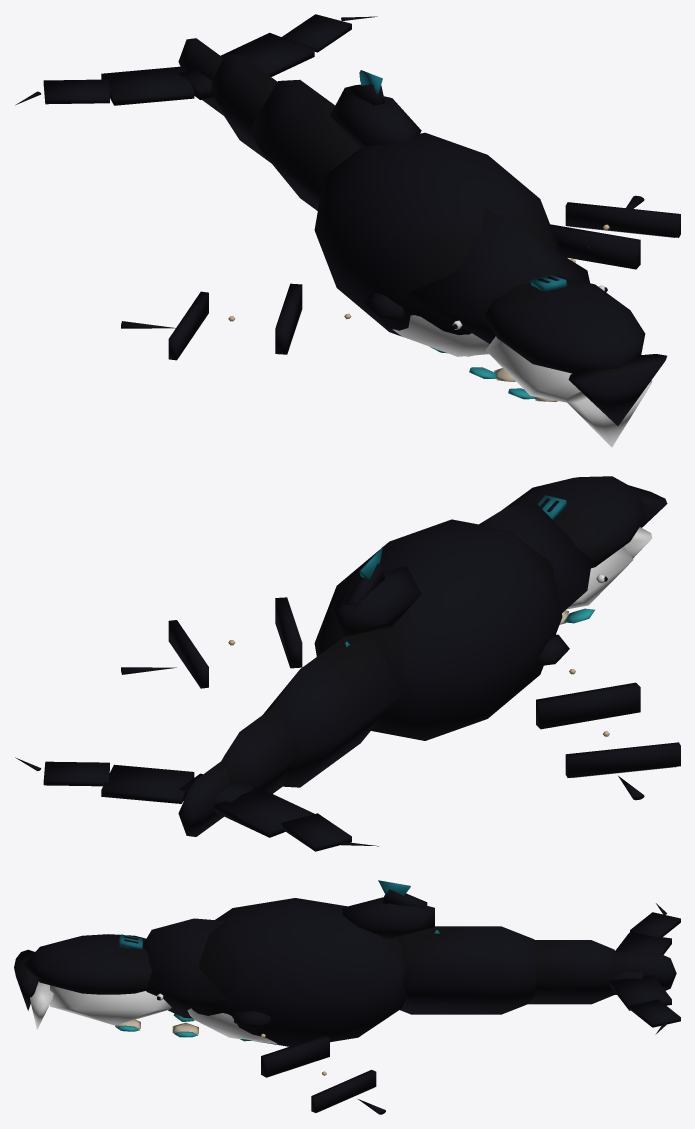
File: whale.glb
3 renders of one model, top to bottom at view 1: azimuth 30°, elevation 25°; view 2: azimuth 150°, elevation 25°; view 3: azimuth 270°, elevation 25°, orthographic. The views are drawn at different scales.
Parts seen in each view (by area): view 1: whale; view 2: whale; view 3: whale.
Part boxes in pixels (x1,y1,x2,y2): whale: (15,14,680,447); whale: (15,476,680,851); whale: (14,880,680,1114).
Size of the model in its own units: 6.99 by 2.74 by 10.36.
